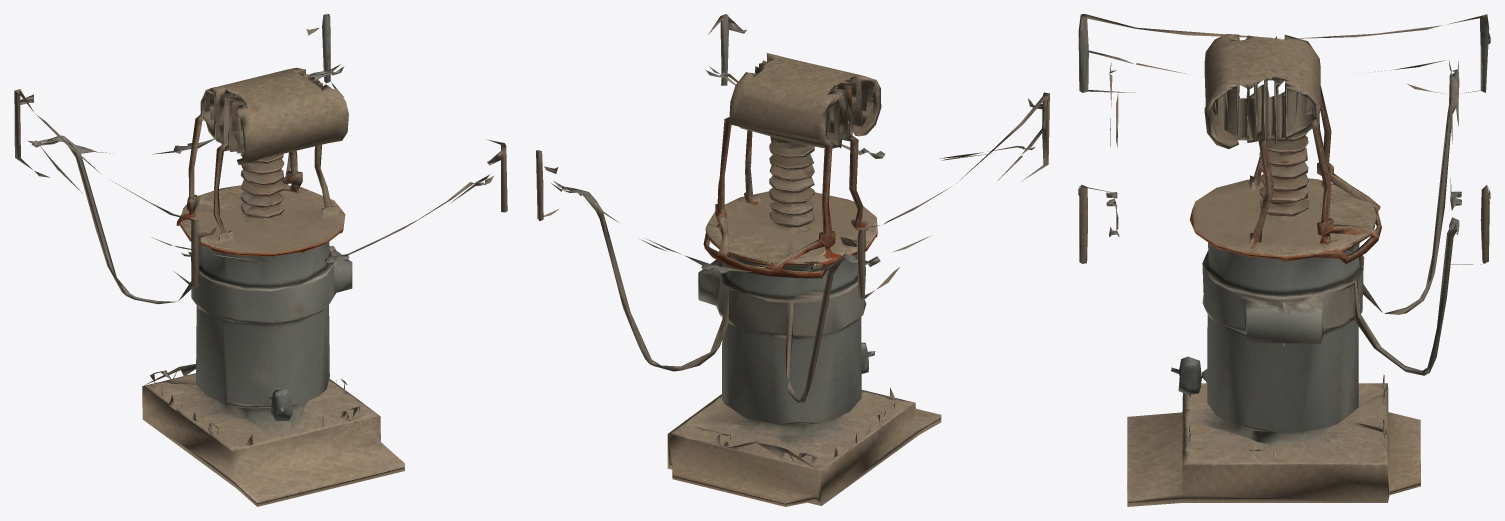
File: transformer.glb
3 renders of one model, left to right at view 1: azimuth 30°, elevation 25°; view 2: azimuth 150°, elevation 25°; view 3: azimuth 270°, elevation 25°, orthographic. The views are drawn at different scales.
Size of the model in its own units: 1.73 by 1.9 by 1.73.
Materials: 1 (1 with a texture image).
